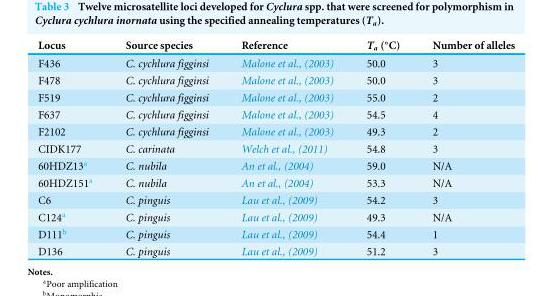table: (37, 37, 514, 257)
table column: (224, 37, 349, 257), (108, 37, 224, 257), (415, 37, 514, 257), (37, 37, 108, 257), (349, 37, 415, 257)
table column header: (37, 37, 514, 53)
table row: (37, 87, 514, 105), (37, 53, 514, 70), (37, 70, 514, 87), (37, 105, 514, 122), (37, 122, 514, 139), (37, 139, 514, 156), (37, 156, 514, 173), (37, 173, 514, 190), (37, 190, 514, 207), (37, 207, 514, 224), (37, 224, 514, 241), (37, 37, 514, 53), (37, 241, 514, 257)
